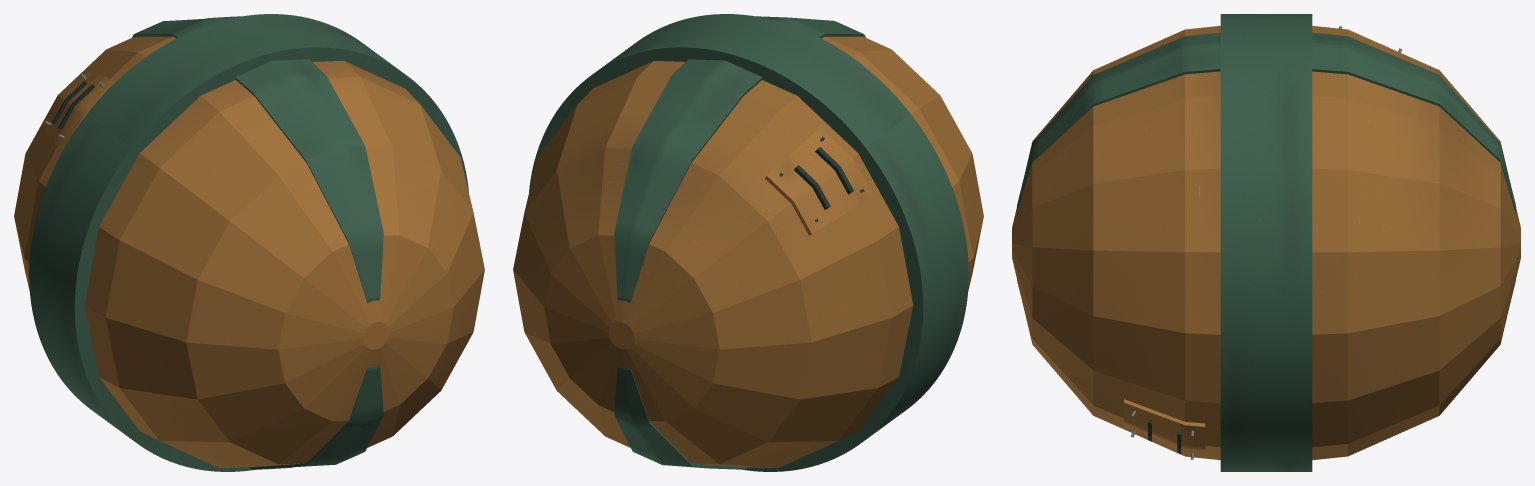
The picture shows the model from 3 angles, left to right: view 1: azimuth 30°, elevation 25°; view 2: azimuth 150°, elevation 25°; view 3: azimuth 270°, elevation 25°; orthographic projection.
Visible parts, largest first — view 1: Artemian Liquid Flame forward metal shell, Artemian Liquid Flame green transverse belt, Artemian Liquid Flame green longitudinal strap 1, Artemian Liquid Flame rear metal shell, Artemian Liquid Flame green longitudinal strap 0, Artemian Liquid Flame service cover 1, Artemian Liquid Flame green longitudinal strap 3; view 2: Artemian Liquid Flame rear metal shell, Artemian Liquid Flame green transverse belt, Artemian Liquid Flame green longitudinal strap 3, Artemian Liquid Flame forward metal shell, Artemian Liquid Flame service cover 1, Artemian Liquid Flame green longitudinal strap 2, Artemian Liquid Flame green longitudinal strap 1; view 3: Artemian Liquid Flame rear metal shell, Artemian Liquid Flame forward metal shell, Artemian Liquid Flame green transverse belt, Artemian Liquid Flame green longitudinal strap 1, Artemian Liquid Flame green longitudinal strap 3, Artemian Liquid Flame service cover 0.
Boxes of the visible parts, left/top/right/bottom form: Artemian Liquid Flame forward metal shell: left=84, top=60, right=484, bottom=468; Artemian Liquid Flame green transverse belt: left=29, top=14, right=468, bottom=471; Artemian Liquid Flame green longitudinal strap 1: left=235, top=59, right=383, bottom=303; Artemian Liquid Flame rear metal shell: left=14, top=36, right=175, bottom=290; Artemian Liquid Flame green longitudinal strap 0: left=249, top=364, right=383, bottom=469; Artemian Liquid Flame service cover 1: left=44, top=72, right=114, bottom=149; Artemian Liquid Flame green longitudinal strap 3: left=132, top=16, right=241, bottom=38; Artemian Liquid Flame rear metal shell: left=513, top=60, right=913, bottom=468; Artemian Liquid Flame green transverse belt: left=529, top=14, right=968, bottom=471; Artemian Liquid Flame green longitudinal strap 3: left=614, top=59, right=762, bottom=303; Artemian Liquid Flame forward metal shell: left=822, top=36, right=983, bottom=290; Artemian Liquid Flame service cover 1: left=765, top=128, right=872, bottom=235; Artemian Liquid Flame green longitudinal strap 2: left=614, top=364, right=748, bottom=469; Artemian Liquid Flame green longitudinal strap 1: left=756, top=16, right=865, bottom=38; Artemian Liquid Flame rear metal shell: left=1312, top=26, right=1520, bottom=459; Artemian Liquid Flame forward metal shell: left=1012, top=26, right=1220, bottom=459; Artemian Liquid Flame green transverse belt: left=1220, top=14, right=1312, bottom=471; Artemian Liquid Flame green longitudinal strap 1: left=1017, top=32, right=1220, bottom=213; Artemian Liquid Flame green longitudinal strap 3: left=1312, top=32, right=1515, bottom=213; Artemian Liquid Flame service cover 0: left=1124, top=399, right=1205, bottom=456.
Bounding box in the file's own units: 0.9 × 0.9 × 1.
Materials: 5 (3 with a texture image).
